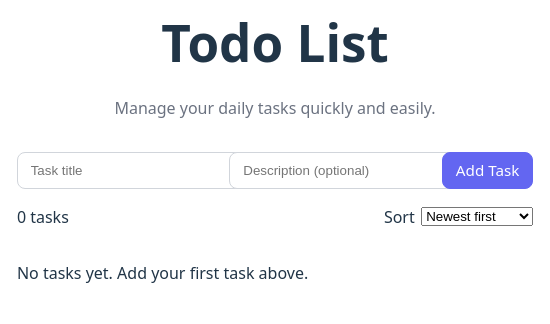
Test: M1: Add Task - task appears in list
The width and height of the screenshot is (550, 324).
Type "Buy milk" into the field with placeholder "Task title" at (133, 170), box [17,152,249,189]
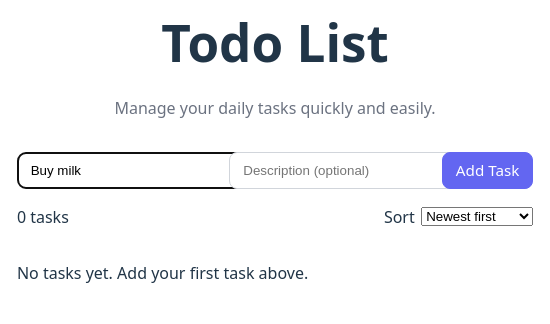
Type "2% lactose free" into the field with placeholder "Description (optional)" at (346, 170), box [230,152,462,189]
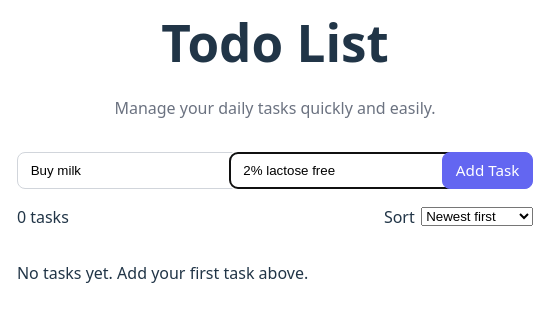
Click the button "Add Task" at (488, 170), box [442,152,533,189]
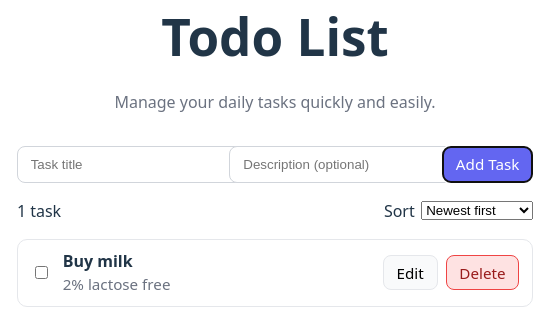
expect the list is shown: met, box [17,238,533,306]
expect the text "Buy milk" is shown: met, box [63,250,133,272]
expect the text "2% lactose free" is shown: met, box [63,273,170,296]
